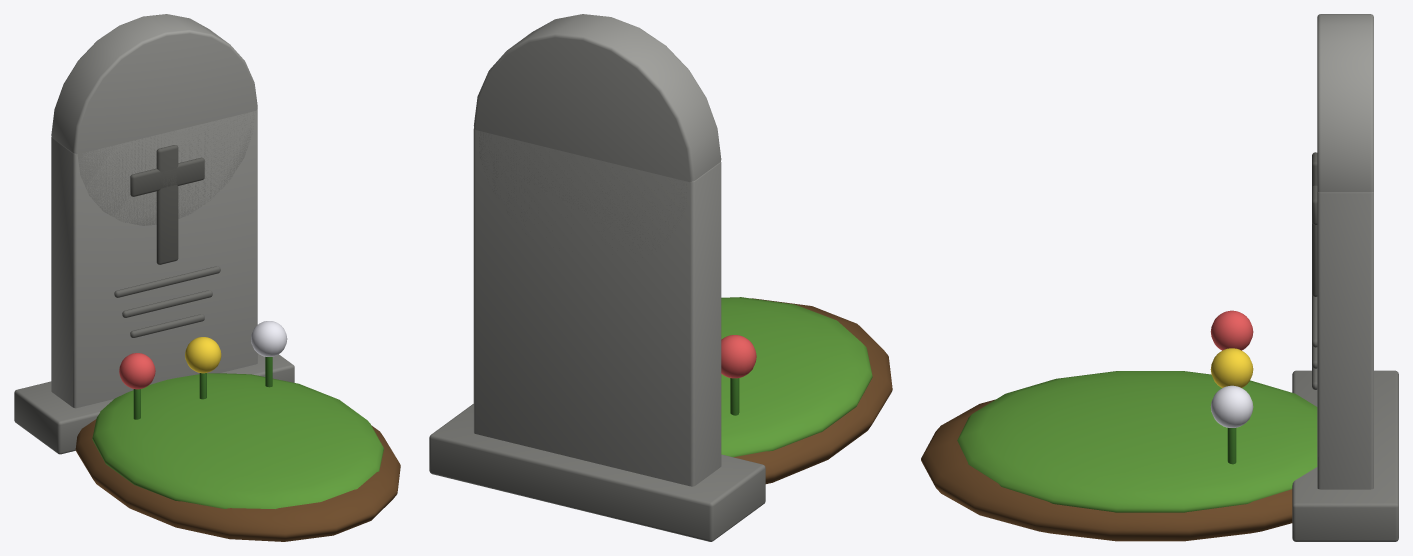
File: lapide.glb
3 views of the same model, side by side, from view 1: azimuth 30°, elevation 25°; view 2: azimuth 150°, elevation 25°; view 3: azimuth 270°, elevation 25° (orthographic). The views are drawn at different scales.
Visible parts, largest first — view 1: lapide; view 2: lapide; view 3: lapide.
Boxes of the visible parts, left/top/right/bottom form: lapide: left=14, top=14, right=400, bottom=541; lapide: left=429, top=14, right=892, bottom=541; lapide: left=921, top=14, right=1398, bottom=541.
Bounding box in the file's own units: 0.9786 × 1.46 × 1.35.
